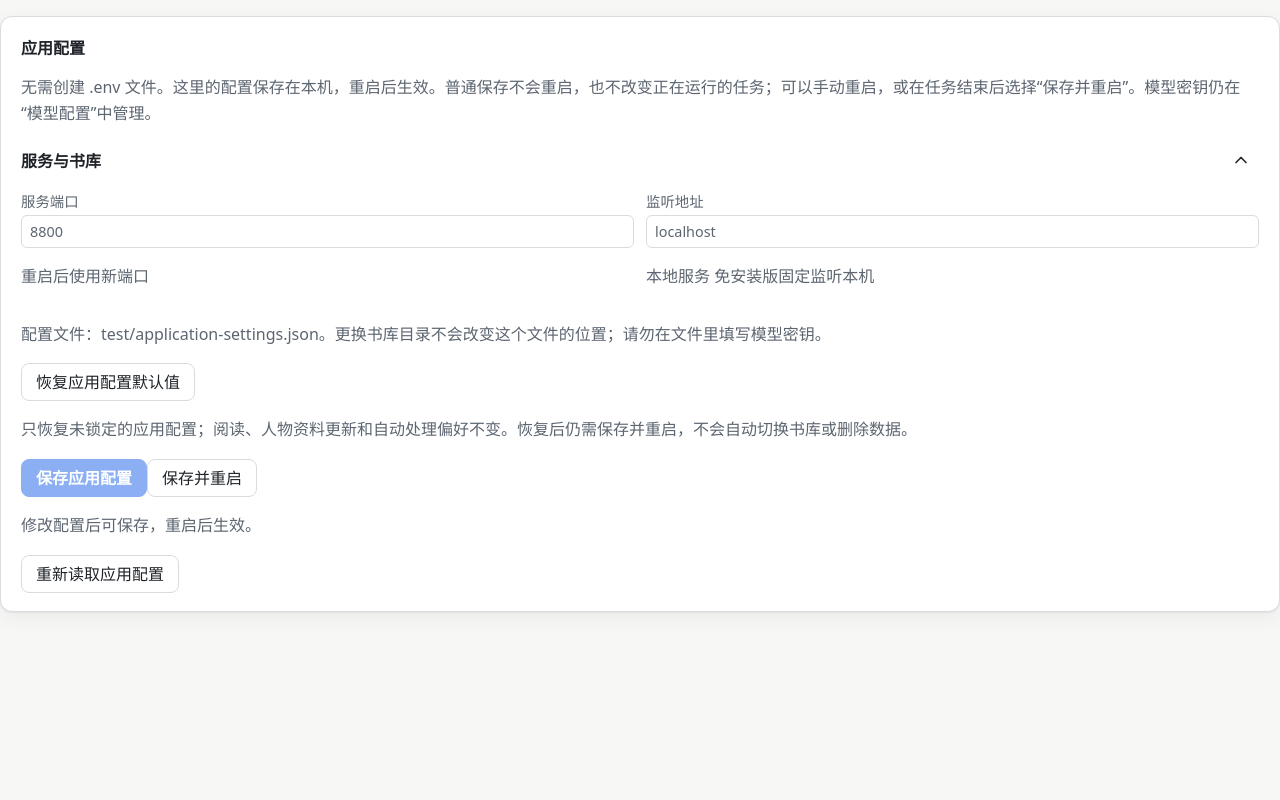
Test: 恢复应用配置只修改未锁定草稿，不自动保存或重启
The image size is (1280, 800).
Expected: the number field labelled "服务端口" is shown, 21,215 -> 634,248
Click the button "恢复应用配置默认值": (108, 382) 21,363 -> 195,401
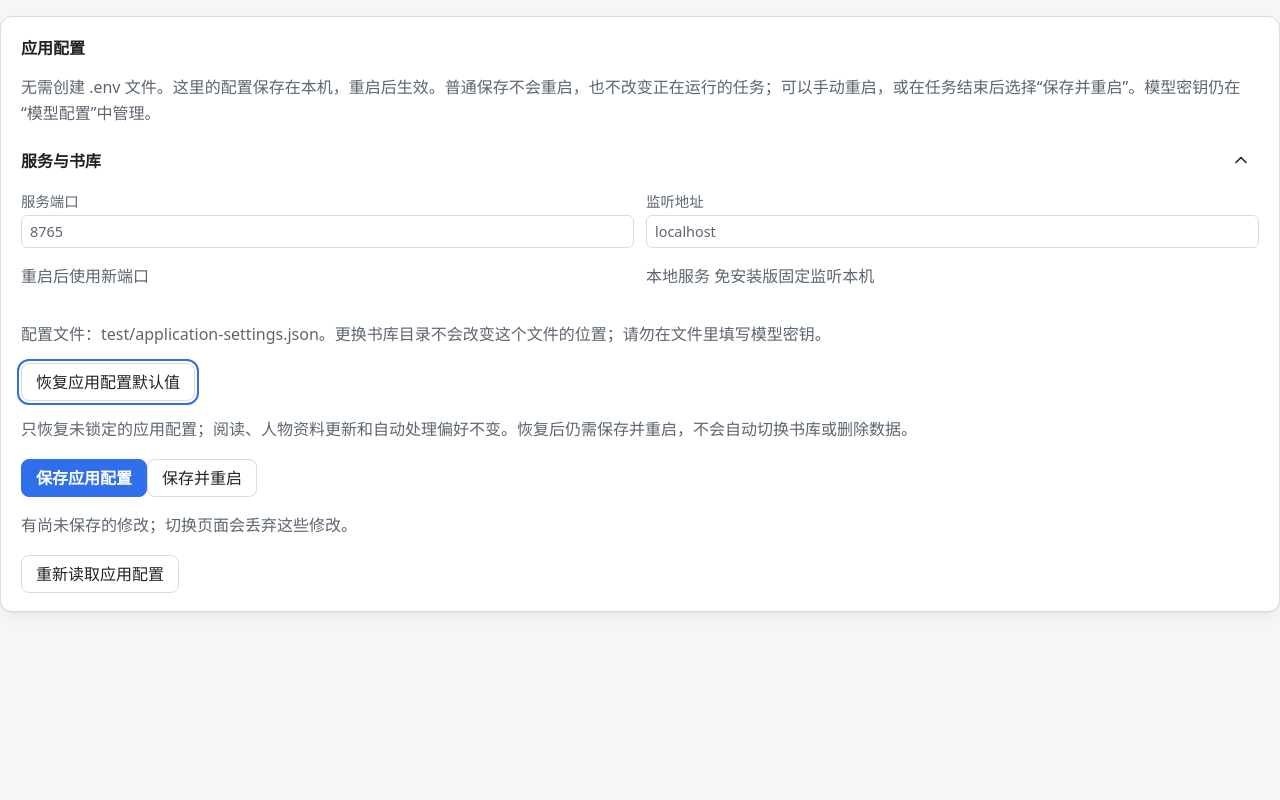
Expected: the field labelled "监听地址" holds "localhost", 646,215 -> 1259,248
Now the number field labelled "服务端口" holds "8765", box 21,215 -> 634,248
Now the button "保存应用配置" is enabled, box 21,459 -> 147,497
